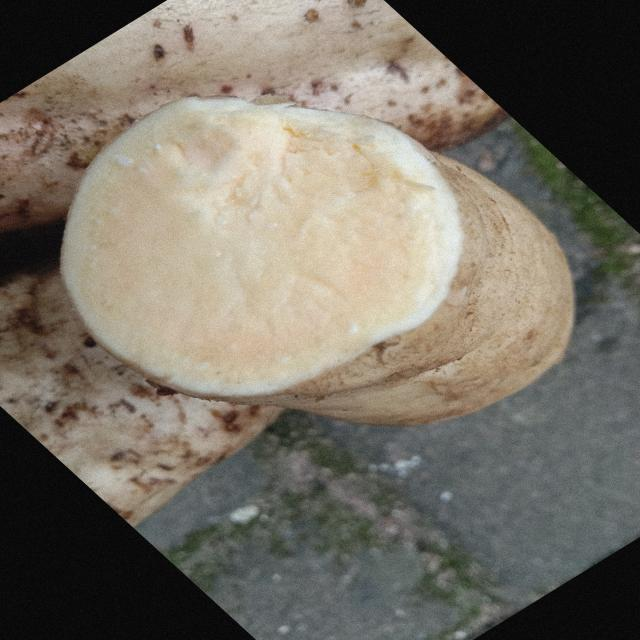Healthy Sweet Potato: (62, 98, 462, 395)
